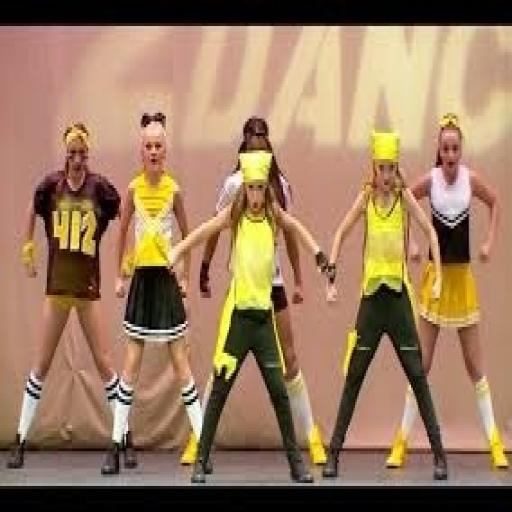dancing: (166, 145, 333, 486), (5, 119, 137, 477), (384, 110, 510, 480), (321, 127, 451, 483), (99, 107, 213, 477)
